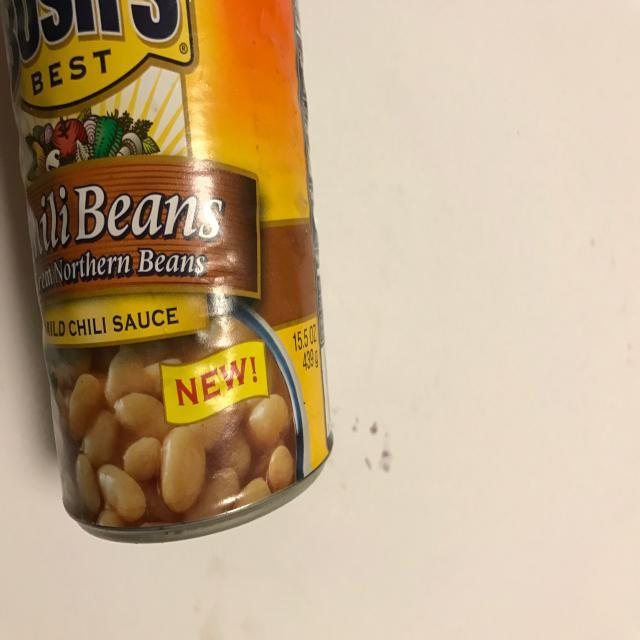metal: (1, 1, 337, 543)
